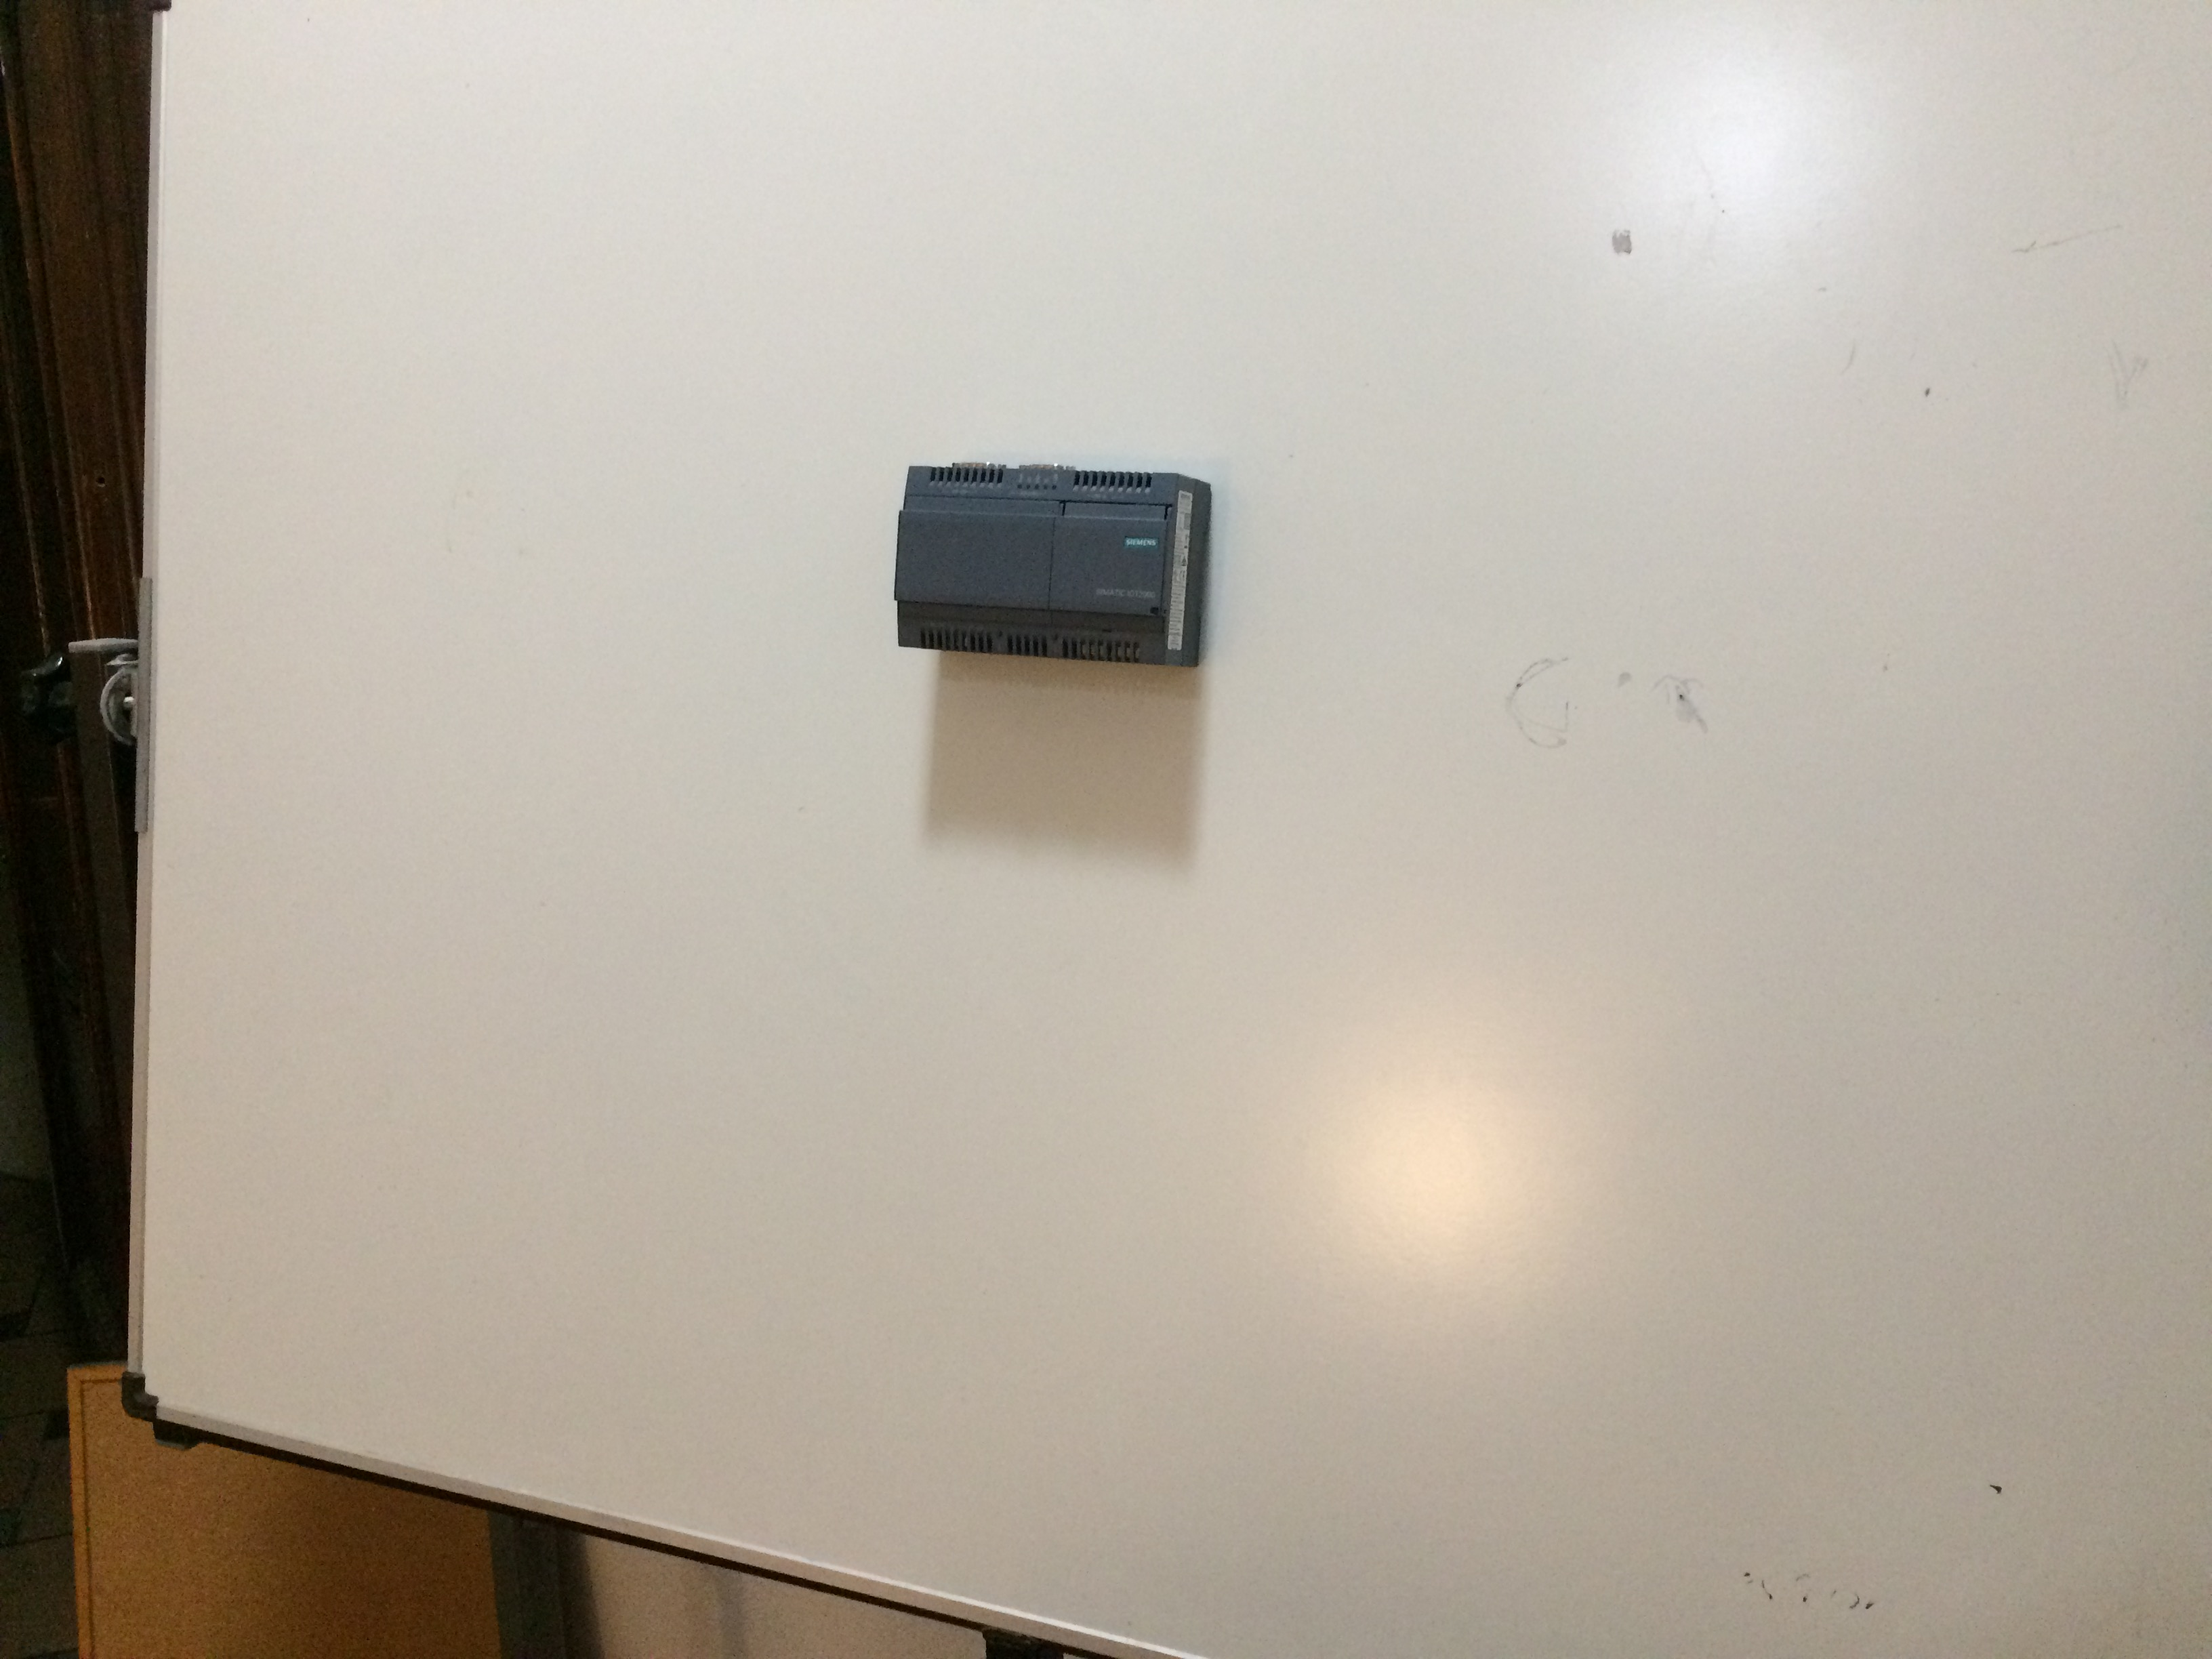iot2000: (888, 457, 1219, 674)
